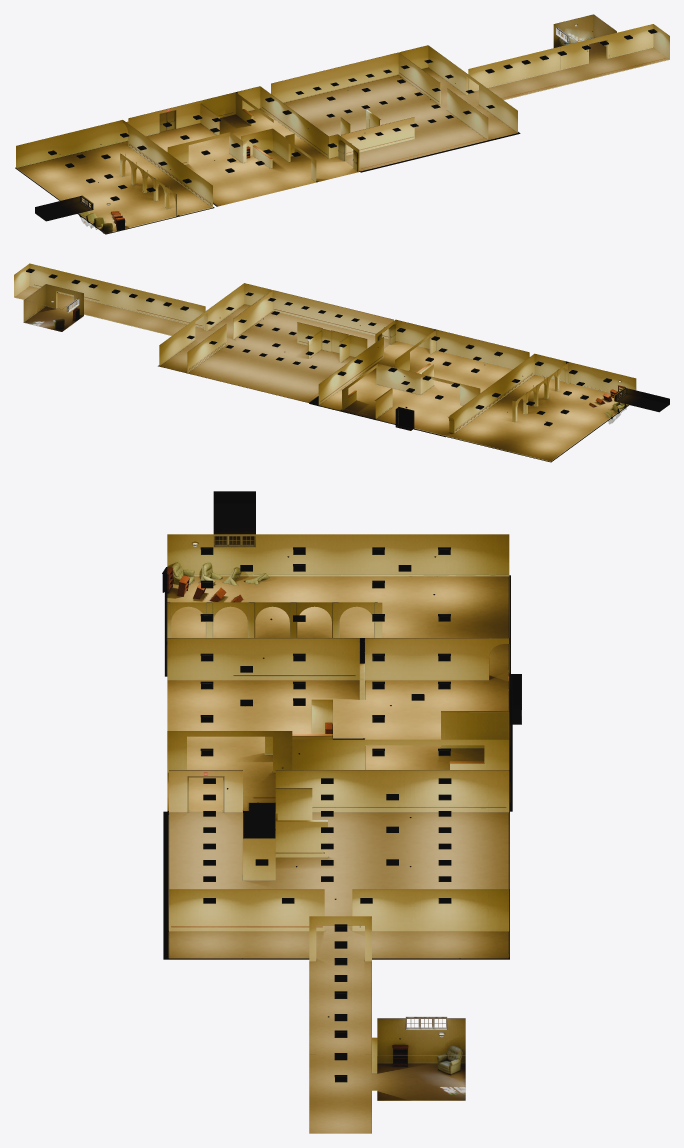
The model's file is backrooms.glb.
The picture shows the model from 3 angles, top to bottom: view 1: azimuth 30°, elevation 25°; view 2: azimuth 150°, elevation 25°; view 3: azimuth 270°, elevation 25°; orthographic projection. The views are drawn at different scales.
Parts seen in each view (by area): view 1: Object_24, Object_18, Object_30, Object_28, Object_38, Object_34, Object_14, Object_22, Object_52, Object_36, Object_42, Object_44 (+2 smaller); view 2: Object_24, Object_30, Object_18, Object_28, Object_38, Object_14, Object_34, Object_22, Object_52, Object_36, Object_42, Object_32 (+2 smaller); view 3: Object_24, Object_18, Object_28, Object_38, Object_30, Object_34, Object_22, Object_52, Object_14, Object_44, Object_32, Object_6 (+2 smaller).
Part boxes in pixels (x1,y1,x2,y2): Object_24: [283, 67, 520, 172]; Object_18: [271, 45, 517, 155]; Object_30: [15, 141, 214, 234]; Object_28: [126, 108, 358, 206]; Object_38: [125, 86, 359, 181]; Object_34: [16, 120, 212, 221]; Object_14: [468, 14, 669, 94]; Object_22: [468, 38, 668, 102]; Object_52: [48, 30, 656, 200]; Object_36: [16, 14, 669, 233]; Object_42: [129, 58, 665, 203]; Object_44: [79, 37, 570, 233]; Object_24: [158, 304, 389, 403]; Object_30: [446, 374, 629, 462]; Object_18: [159, 283, 393, 372]; Object_28: [309, 341, 512, 437]; Object_38: [318, 319, 529, 432]; Object_14: [14, 263, 205, 330]; Object_34: [449, 353, 669, 433]; Object_22: [15, 286, 205, 338]; Object_52: [26, 269, 611, 426]; Object_36: [14, 284, 628, 461]; Object_42: [34, 284, 532, 430]; Object_32: [49, 274, 584, 414]; Object_24: [163, 811, 509, 959]; Object_18: [169, 770, 509, 931]; Object_28: [167, 677, 512, 811]; Object_38: [167, 638, 521, 772]; Object_30: [164, 575, 510, 677]; Object_34: [167, 491, 509, 637]; Object_22: [309, 959, 465, 1133]; Object_52: [200, 549, 451, 1082]; Object_14: [309, 916, 465, 1072]; Object_44: [171, 562, 463, 1075]; Object_32: [240, 565, 424, 1060]; Object_6: [162, 567, 408, 1067].
Size of the model in its own units: 80.54 by 4.09 by 20.36.
28 materials, 27 textured.
